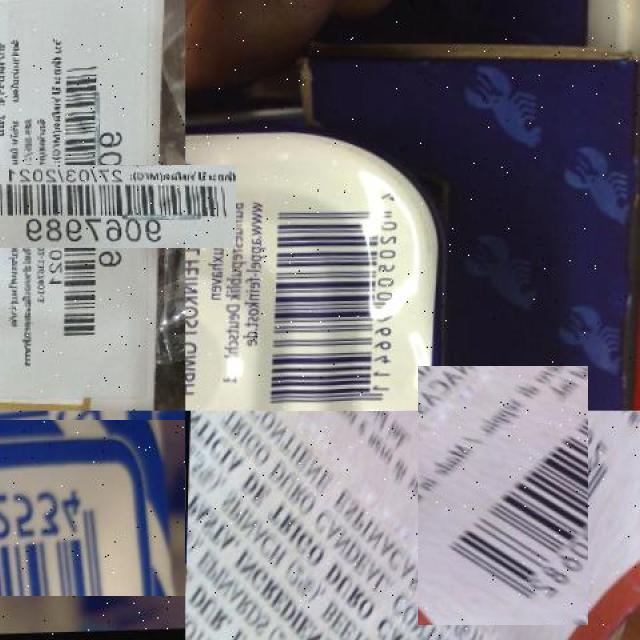Barcode: (396, 388, 611, 604), (0, 111, 182, 303), (0, 416, 180, 601), (260, 190, 404, 410)
